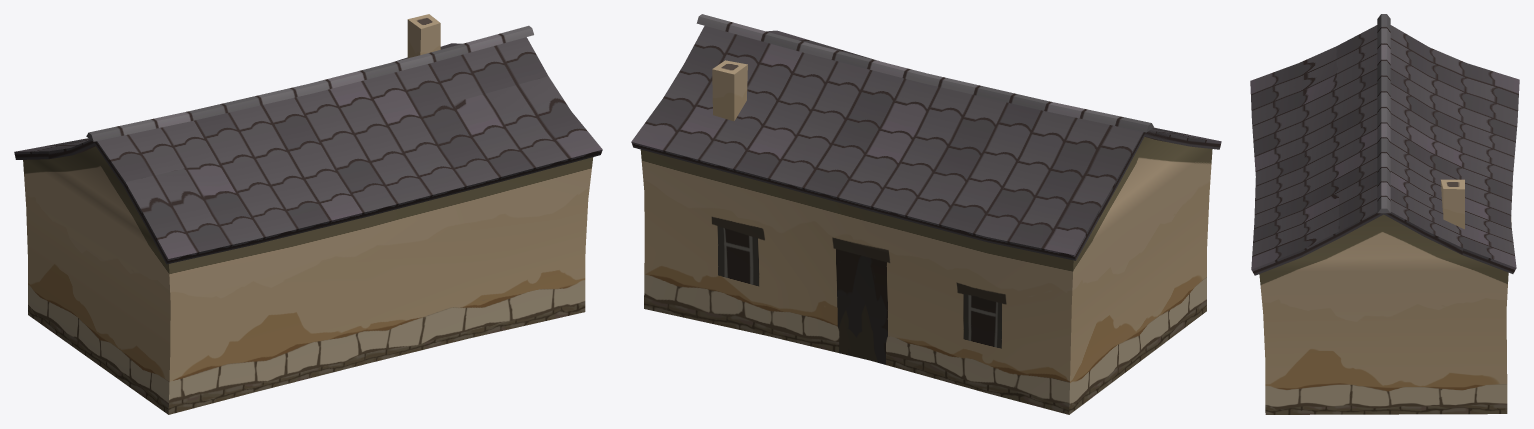
Rendered from House02.fbx.
The picture shows the model from 3 angles, left to right: view 1: azimuth 30°, elevation 25°; view 2: azimuth 150°, elevation 25°; view 3: azimuth 270°, elevation 25°; orthographic projection. The views are drawn at different scales.
Parts seen in each view (by area): view 1: Main_low, Attachment01_low, Attachment02_low; view 2: Main_low, Attachment01_low, Attachment02_low; view 3: Main_low, Attachment01_low, Attachment02_low.
Boxes of the visible parts, <box> form: Main_low: <box>14,37,602,414</box>; Attachment01_low: <box>86,25,533,141</box>; Attachment02_low: <box>407,14,440,58</box>; Main_low: <box>631,26,1221,414</box>; Attachment01_low: <box>696,14,1153,132</box>; Attachment02_low: <box>712,60,747,121</box>; Main_low: <box>1250,25,1519,414</box>; Attachment01_low: <box>1377,14,1390,213</box>; Attachment02_low: <box>1441,179,1464,229</box>.
Size of the model in its own units: 7.43 by 3.78 by 4.35.
